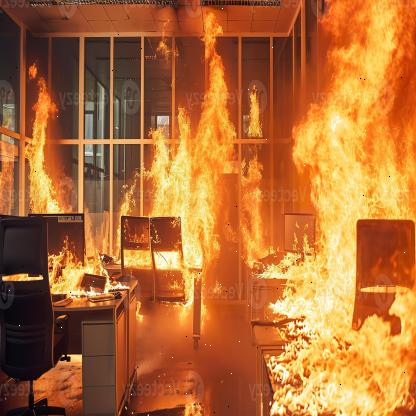fire: (0, 0, 414, 416)
